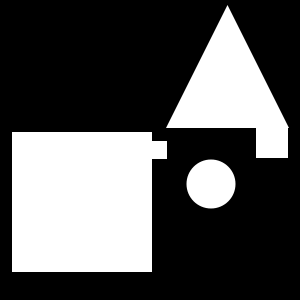circle: (12, 132, 152, 272), (256, 126, 288, 158), (149, 141, 167, 159)
rectangle: (186, 160, 236, 208)
triangle: (166, 5, 289, 128)
